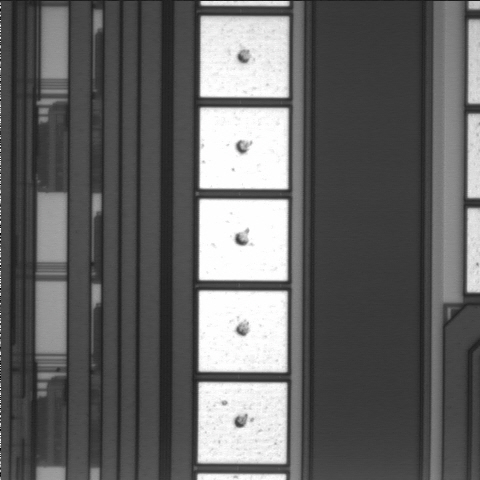pad: (200, 16, 289, 98), (199, 199, 288, 281), (198, 382, 287, 464), (199, 108, 288, 189), (199, 291, 288, 372)
